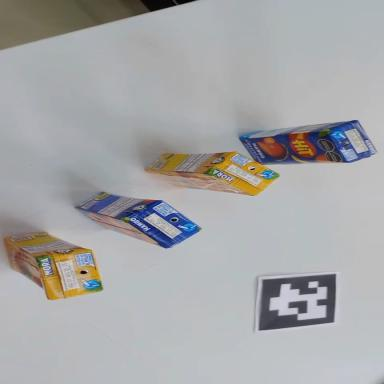HIT-MANGO: (72, 189, 204, 253), (239, 120, 376, 164)
HIT-MORA: (3, 225, 102, 306), (145, 149, 279, 196)
cara_F: (72, 208, 169, 248), (240, 130, 347, 166), (2, 231, 48, 307), (144, 171, 253, 196)
